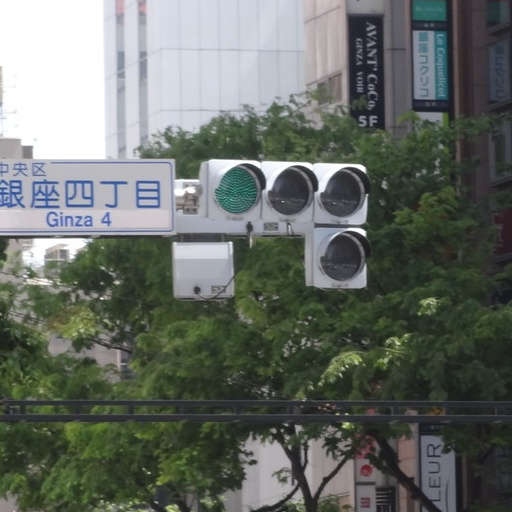Traffic_Signal_Blue: (202, 159, 369, 221)
